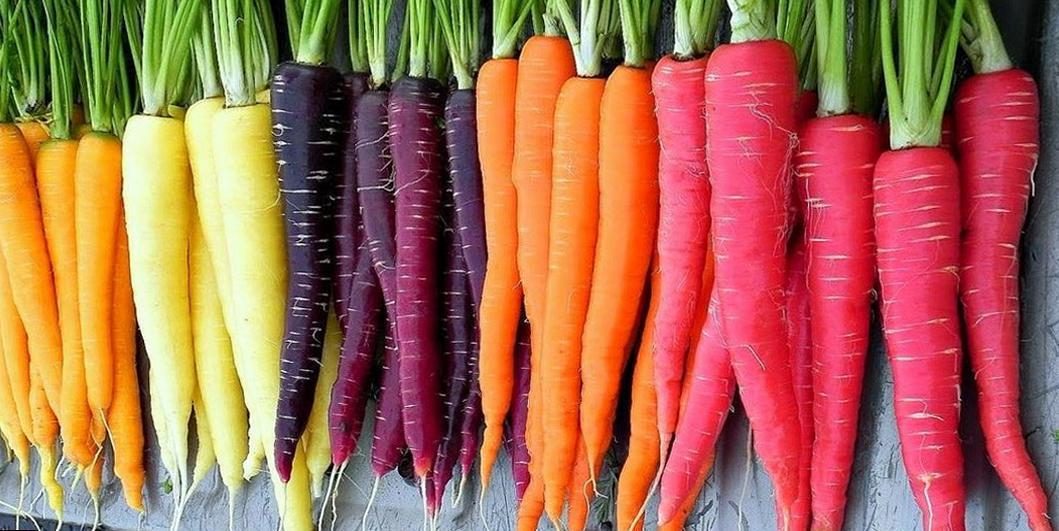carrot: (488, 47, 641, 529), (481, 47, 545, 531), (560, 60, 658, 319)
